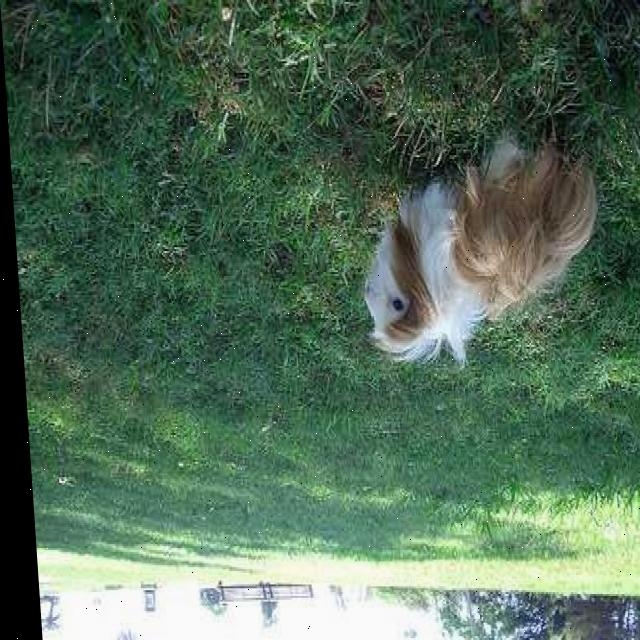guinea pig: (353, 141, 601, 359)
